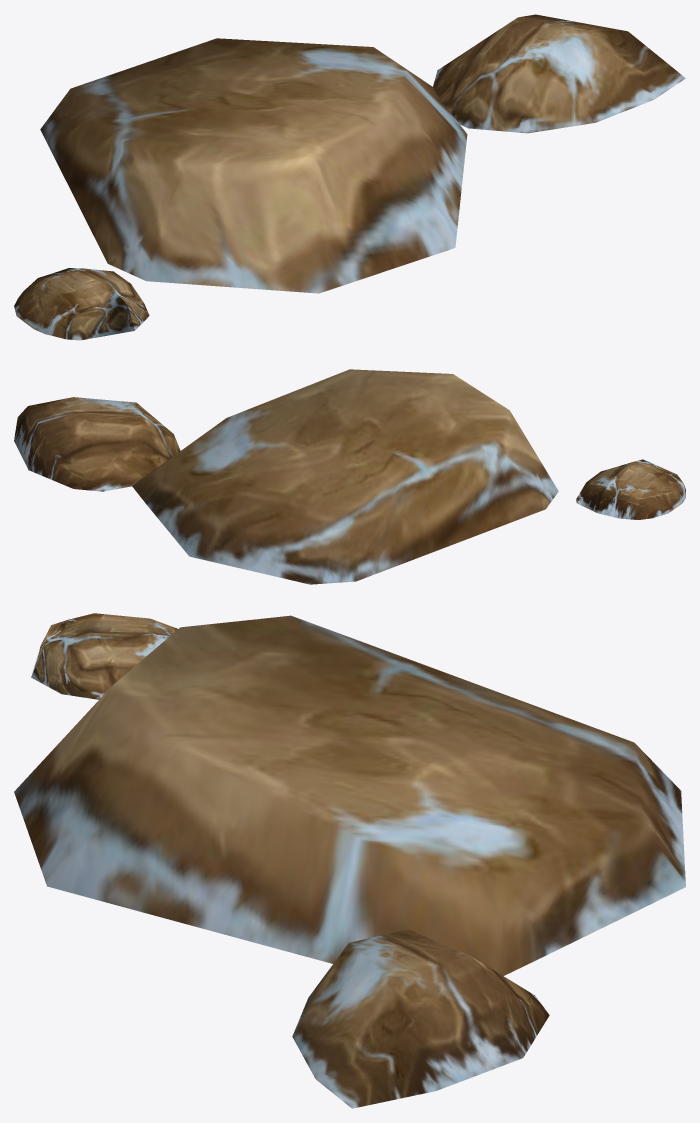
The model's file is Stage_BingYuan_ShiDui04.FBX.
3 views of the same model, one above another, from view 1: azimuth 30°, elevation 25°; view 2: azimuth 150°, elevation 25°; view 3: azimuth 270°, elevation 25° (orthographic). The views are drawn at different scales.
Visible parts, largest first — view 1: Stage_BingYuan_ShiDui04; view 2: Stage_BingYuan_ShiDui04; view 3: Stage_BingYuan_ShiDui04.
Part boxes in pixels (bbox=[...]): Stage_BingYuan_ShiDui04: bbox=[14, 14, 685, 340]; Stage_BingYuan_ShiDui04: bbox=[14, 369, 685, 584]; Stage_BingYuan_ShiDui04: bbox=[14, 613, 685, 1108].
Size of the model in its own units: 132 by 16.78 by 78.62.
